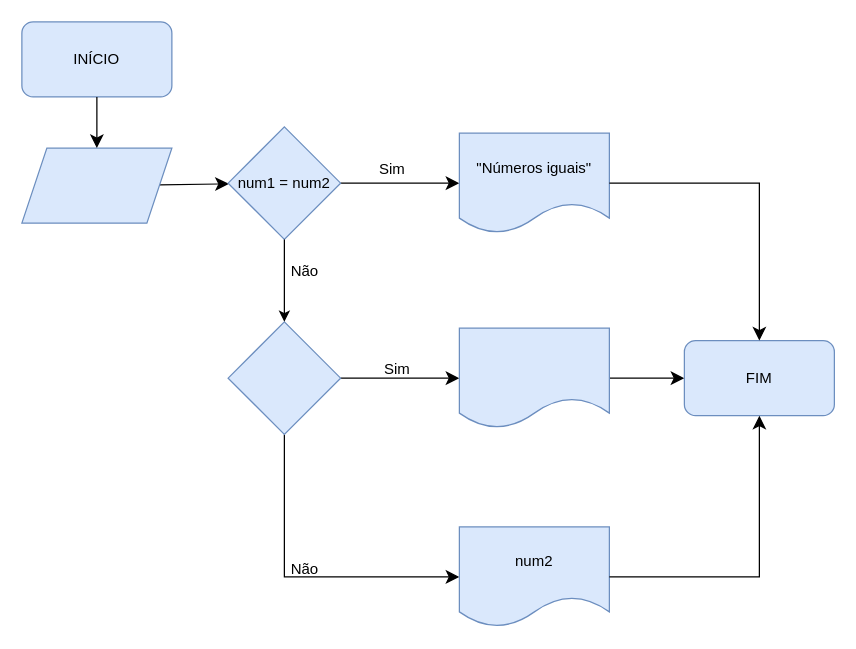
This 856x649 diagram has some shape labels left out. Here are the shapes that lost their labels. From the top down, the box of each, then its label:
(21, 147, 172, 223): num1, num2
(227, 321, 341, 434): num1 > num2
(458, 327, 609, 428): num1
